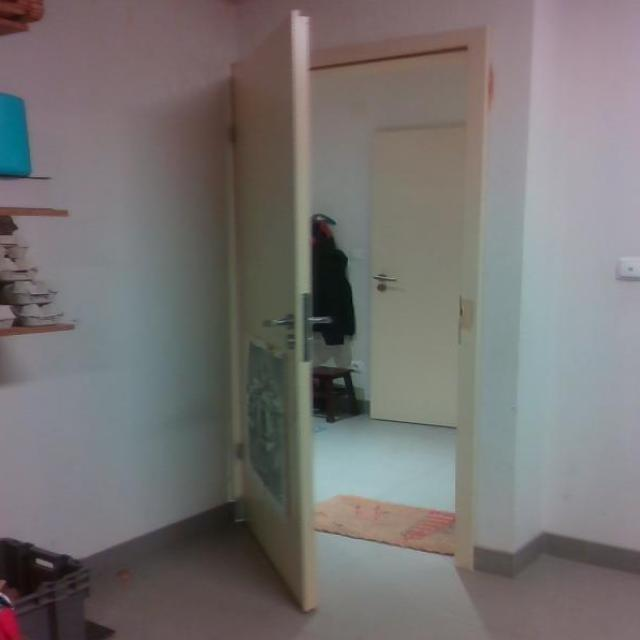door: (208, 17, 326, 610), (368, 122, 462, 427)
